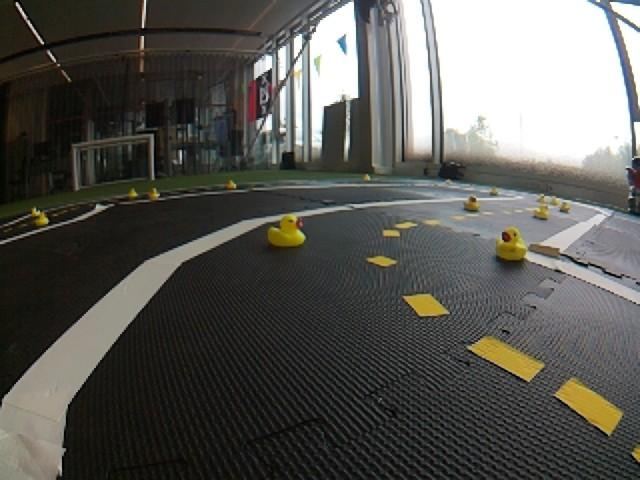Duckies: (268, 214, 307, 247), (494, 226, 528, 259), (463, 195, 479, 210), (533, 205, 549, 219), (35, 215, 49, 226), (149, 188, 161, 199), (560, 202, 572, 212), (127, 188, 138, 198), (30, 206, 40, 216), (225, 180, 236, 189), (551, 197, 561, 205), (490, 188, 499, 195), (537, 195, 546, 202), (364, 175, 371, 181), (445, 180, 451, 184)
